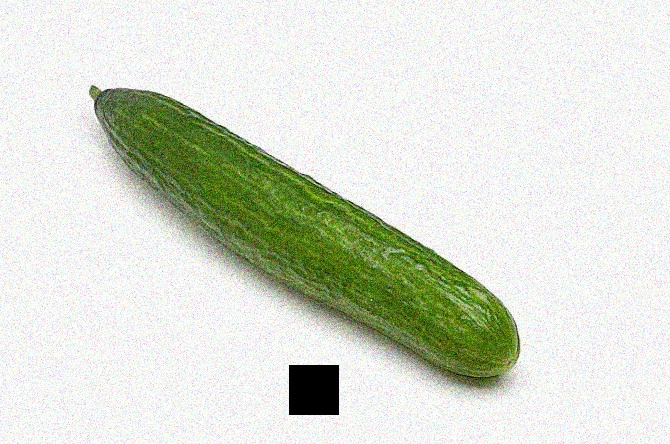cucumber: (86, 81, 518, 375)
